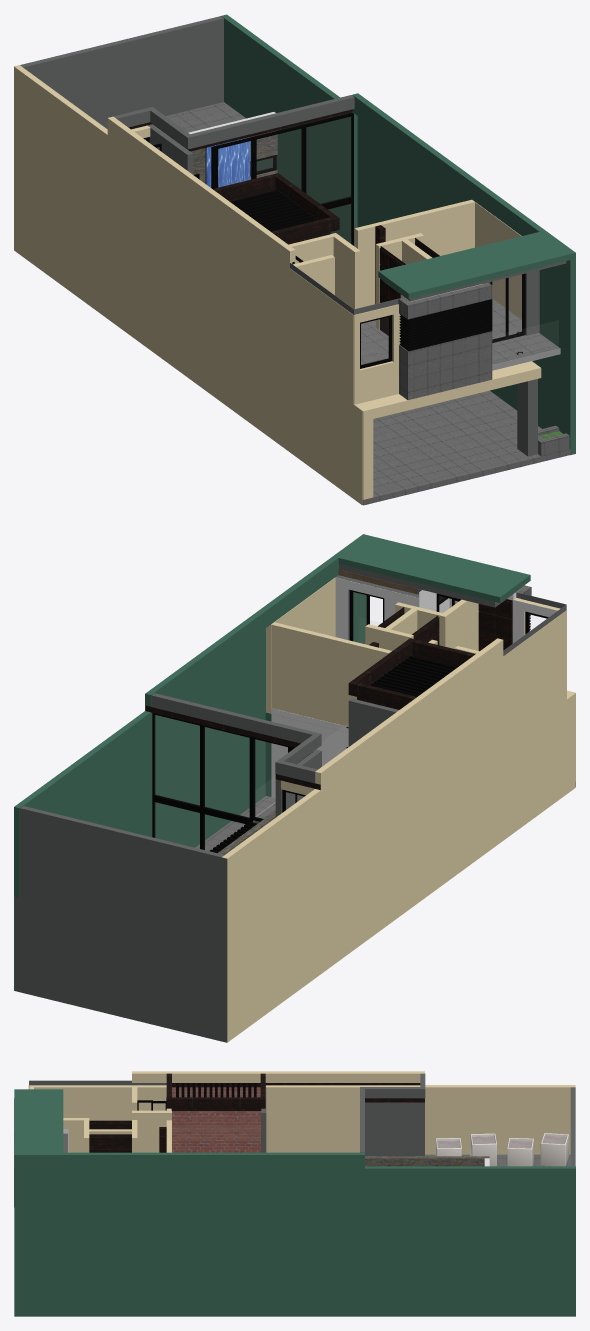
File: casa_color.glb
3 views of the same model, one above another, from view 1: azimuth 30°, elevation 25°; view 2: azimuth 150°, elevation 25°; view 3: azimuth 270°, elevation 25° (orthographic). The views are drawn at different scales.
Parts seen in each view (by area): view 1: MuroExtBlanco_1, AluminioNegro_1, MuroInt_1_64, PisoExt_1_6, PisoExt_1, MuroInt_1_78, PisoInt_1, MuroInt_1_71, Cascada, PisoExt_2_9, PisoExt_1_6_1, MaderaNegra_1 (+4 smaller); view 2: MuroExtBlanco_1, MuroInt_1_64, AluminioNegro_1, MuroInt_1_78, MaderaNegra_1, MuroInt_1_68, MuroInt_1_21, MuroInt_1_73, MuroExtNegro_1_2, PisoInt_1, Cubo_5, MuroInt_1_46 (+3 smaller); view 3: MuroExtBlanco_1, Tabique_1, MuroInt_1_69, Barro_1, MaderaNegra_1, MuroInt_1_71, Tierra_1, Cubo_3, MuroInt_1_75, MuroInt_1_68, Cubo_2, PisoExt_1.
Part boxes in pixels (<box>): MuroExtBlanco_1: <box>14,14,575,505</box>; AluminioNegro_1: <box>143,112,525,368</box>; MuroInt_1_64: <box>354,200,474,307</box>; PisoExt_1_6: <box>408,331,492,399</box>; PisoExt_1: <box>145,102,559,364</box>; MuroInt_1_78: <box>472,200,521,319</box>; PisoInt_1: <box>361,298,526,364</box>; MuroInt_1_71: <box>333,235,360,309</box>; Cascada: <box>206,137,250,187</box>; PisoExt_2_9: <box>517,379,537,456</box>; PisoExt_1_6_1: <box>408,284,492,319</box>; MaderaNegra_1: <box>379,238,439,335</box>; MuroExtBlanco_1: <box>14,534,575,1042</box>; MuroInt_1_64: <box>271,622,391,726</box>; AluminioNegro_1: <box>152,590,548,849</box>; MuroInt_1_78: <box>266,577,335,713</box>; MaderaNegra_1: <box>378,599,512,651</box>; MuroInt_1_68: <box>440,599,478,650</box>; MuroInt_1_21: <box>271,714,348,797</box>; MuroInt_1_73: <box>348,698,398,746</box>; MuroExtNegro_1_2: <box>339,564,521,607</box>; PisoInt_1: <box>195,796,275,851</box>; Cubo_5: <box>146,705,300,747</box>; MuroInt_1_46: <box>335,577,348,639</box>; MuroExtBlanco_1: <box>14,1071,575,1316</box>; Tabique_1: <box>172,1085,265,1152</box>; MuroInt_1_69: <box>31,1085,131,1120</box>; Barro_1: <box>435,1133,568,1166</box>; MaderaNegra_1: <box>89,1120,131,1152</box>; MuroInt_1_71: <box>132,1110,166,1152</box>; Tierra_1: <box>437,1136,566,1148</box>; Cubo_3: <box>29,1080,166,1085</box>; MuroInt_1_75: <box>132,1085,166,1110</box>; MuroInt_1_68: <box>63,1118,89,1152</box>; Cubo_2: <box>265,1083,420,1085</box>; PisoExt_1: <box>425,1154,570,1166</box>.
Bounding box in the file's own units: 0.1406 × 0.1268 × 0.3991.
21 materials, 9 textured.
